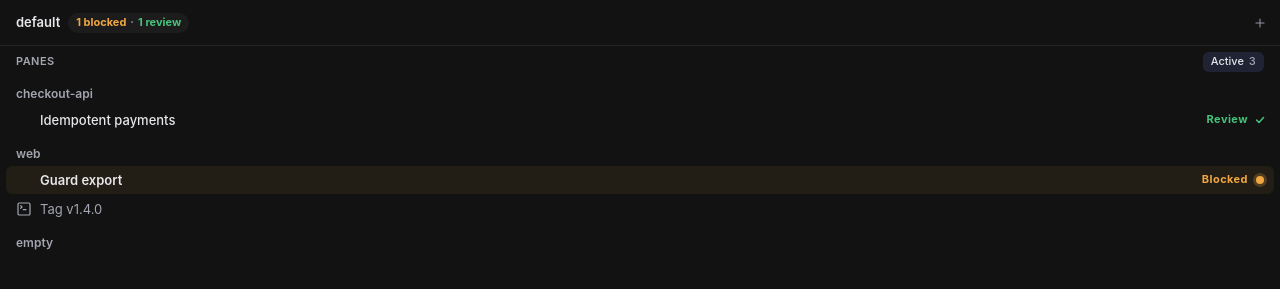
AgentList › fork › shows why a fork was refused
The width and height of the screenshot is (1280, 289).
Right-click the text "Idempotent payments": (108, 120) [40, 112, 175, 128]
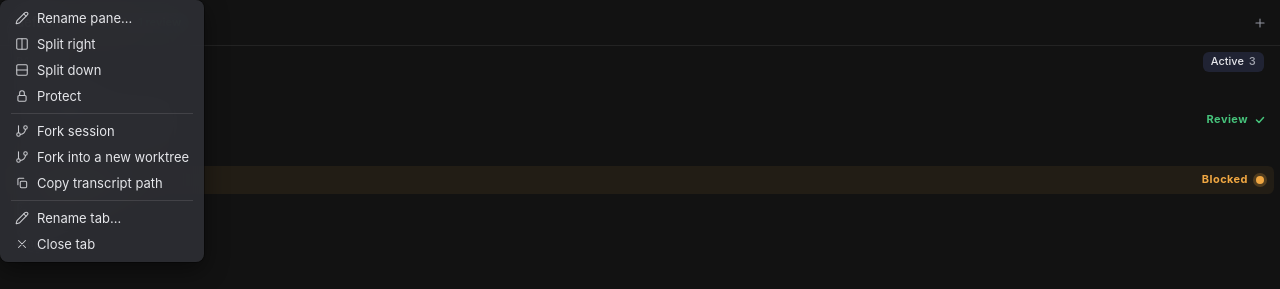
Click the menu item "Fork session": click(102, 131) [5, 118, 199, 144]
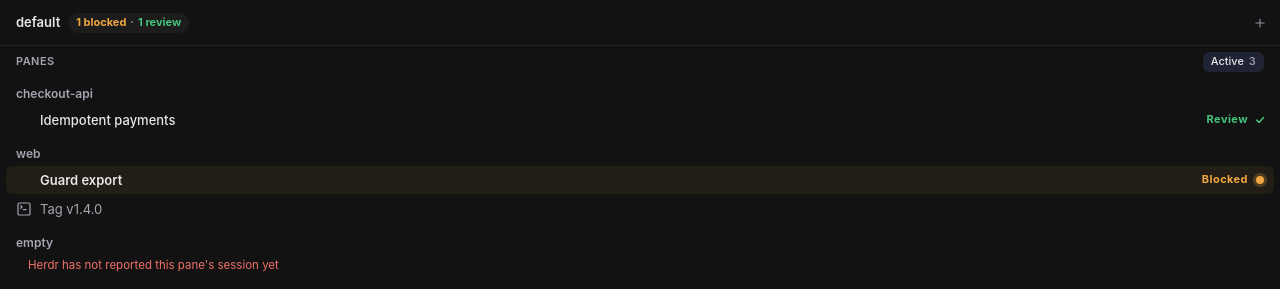
expect the text "Herdr has not reported this pane's session yet" is shown: met, box [28, 258, 279, 272]
